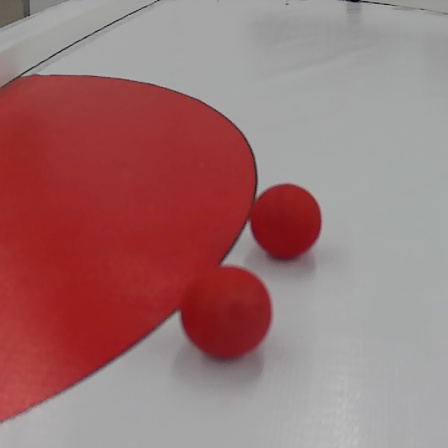red: (181, 267, 274, 366), (252, 181, 325, 264)
red_base: (0, 67, 258, 420)
